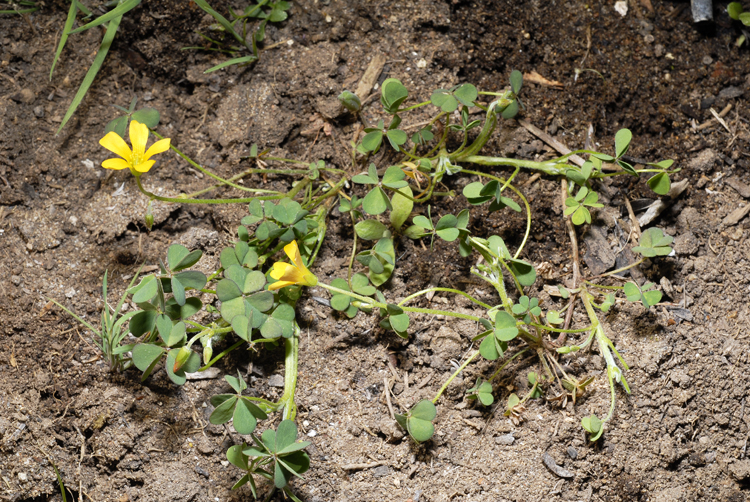oxalis: (101, 222, 287, 371), (336, 52, 535, 154), (337, 185, 467, 297), (210, 402, 322, 496), (567, 134, 684, 214), (467, 314, 524, 358), (637, 229, 678, 275)
